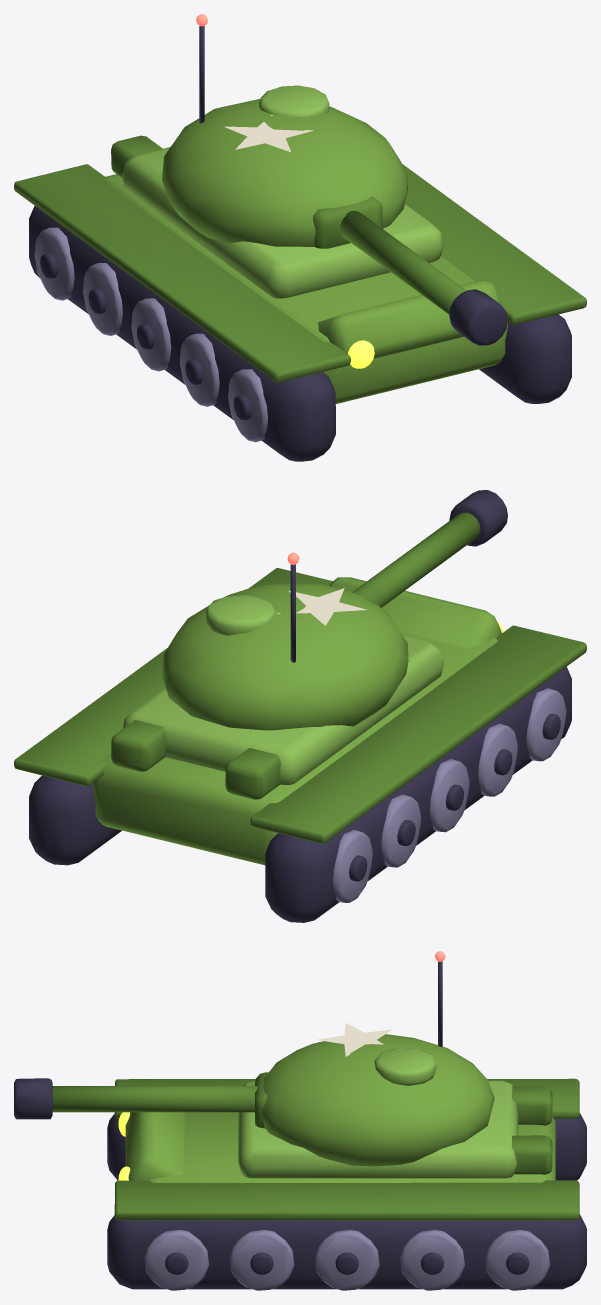
Rendered from tank.glb.
The picture shows the model from 3 angles, top to bottom: view 1: azimuth 30°, elevation 25°; view 2: azimuth 150°, elevation 25°; view 3: azimuth 270°, elevation 25°; orthographic projection. The views are drawn at different scales.
Parts seen in each view (by area): view 1: Cube; view 2: Cube; view 3: Cube.
Boxes of the visible parts, x1,y1,x2,y2 form: Cube: [14, 14, 586, 461]; Cube: [14, 490, 586, 922]; Cube: [14, 951, 586, 1290].
Size of the model in its own units: 4.16 by 3.77 by 7.39.
